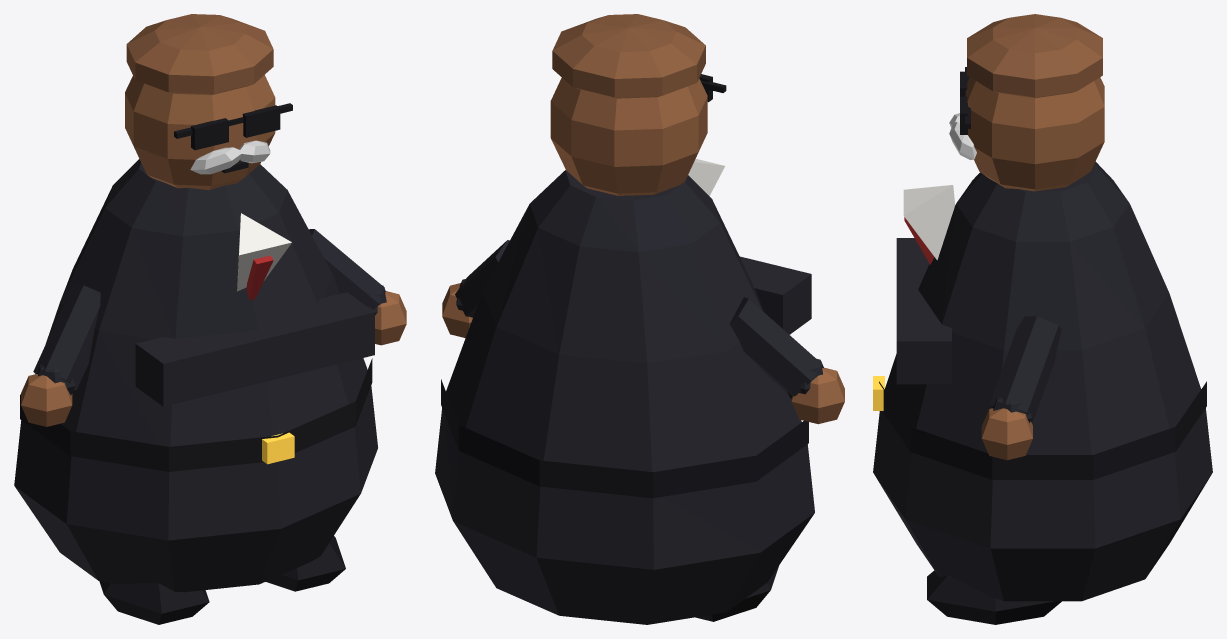
Rendered from npc_portero.glb.
3 renders of one model, left to right at view 1: azimuth 30°, elevation 25°; view 2: azimuth 150°, elevation 25°; view 3: azimuth 270°, elevation 25°, orthographic. The views are drawn at different scales.
Parts seen in each view (by area): view 1: body_doorman_suit, head_skin_cacao, cap_bald, body_black, arms_doorman_suit, legs_black, arms_skin_cacao, face_black, body_white, face_gray, body_gold, body_doorman_tie; view 2: body_doorman_suit, head_skin_cacao, cap_bald, body_black, arms_doorman_suit, arms_skin_cacao, legs_black, body_white; view 3: body_doorman_suit, head_skin_cacao, cap_bald, body_black, arms_doorman_suit, legs_black, body_white, arms_skin_cacao, face_gray, face_black.
Boxes of the visible parts, box(x1,y1,x2,y2) form: body_doorman_suit: box(14, 159, 377, 592); head_skin_cacao: box(125, 75, 275, 190); cap_bald: box(126, 14, 273, 94); body_black: box(20, 358, 372, 471); arms_doorman_suit: box(33, 229, 386, 395); legs_black: box(99, 536, 345, 624); arms_skin_cacao: box(21, 291, 406, 426); face_black: box(174, 103, 292, 173); body_white: box(237, 213, 291, 291); face_gray: box(190, 140, 270, 174); body_gold: box(262, 432, 294, 464); body_doorman_tie: box(246, 255, 273, 300); body_doorman_suit: box(435, 170, 814, 624); head_skin_cacao: box(550, 77, 707, 195); cap_bald: box(552, 14, 705, 98); body_black: box(441, 379, 808, 498); arms_doorman_suit: box(455, 240, 823, 398); arms_skin_cacao: box(442, 283, 844, 424); legs_black: box(695, 566, 778, 621); body_white: box(688, 159, 724, 195); body_doorman_suit: box(873, 161, 1212, 601); head_skin_cacao: box(966, 77, 1104, 191); cap_bald: box(967, 14, 1102, 98); body_black: box(879, 381, 1206, 479); arms_doorman_suit: box(990, 316, 1061, 422); legs_black: box(927, 570, 1061, 624); body_white: box(903, 185, 955, 260); arms_skin_cacao: box(981, 408, 1032, 460); face_gray: box(949, 113, 976, 159); face_black: box(960, 67, 970, 134).
Bounding box in the file's own units: 1.13 × 1.55 × 0.86.
